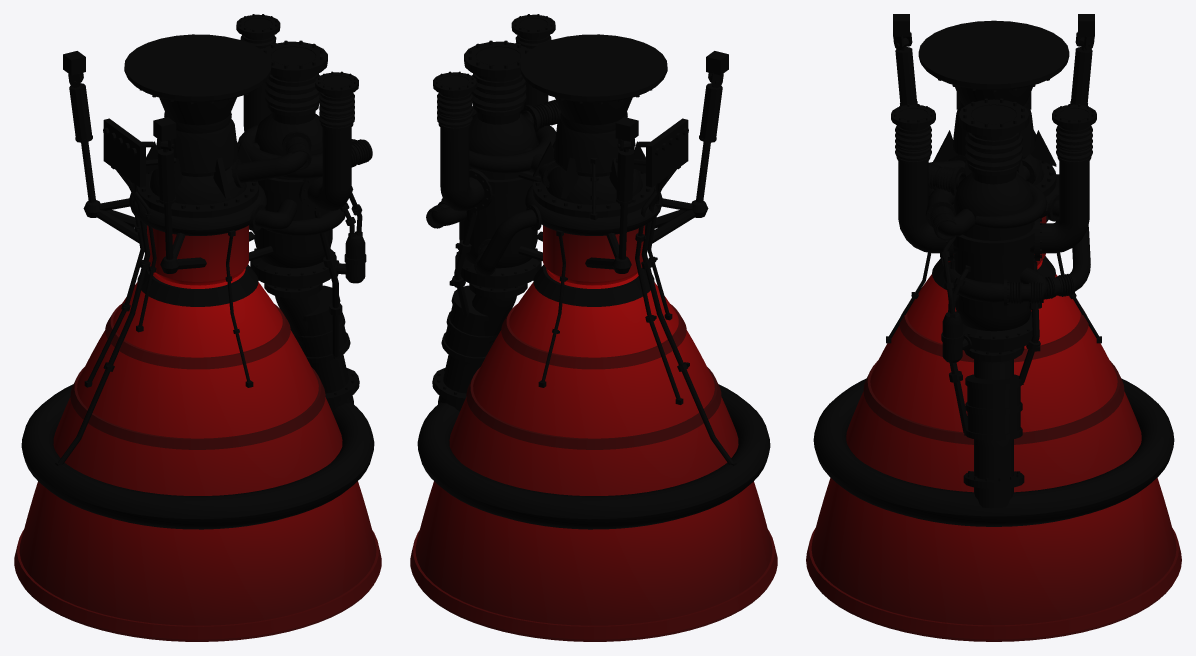
File: eng_kerolox_giant.fbx
3 renders of one model, left to right at view 1: azimuth 30°, elevation 25°; view 2: azimuth 150°, elevation 25°; view 3: azimuth 270°, elevation 25°, orthographic. The views are drawn at different scales.
Visible parts, largest first — view 1: eng_kerolox_giant_LOD0; view 2: eng_kerolox_giant_LOD0; view 3: eng_kerolox_giant_LOD0.
Boxes of the visible parts, left/top/right/bottom form: eng_kerolox_giant_LOD0: left=14, top=14, right=381, bottom=641; eng_kerolox_giant_LOD0: left=410, top=14, right=777, bottom=641; eng_kerolox_giant_LOD0: left=806, top=14, right=1181, bottom=641.
Size of what is drawn, in the model's own units: 3.74 by 5.6 by 3.74.
